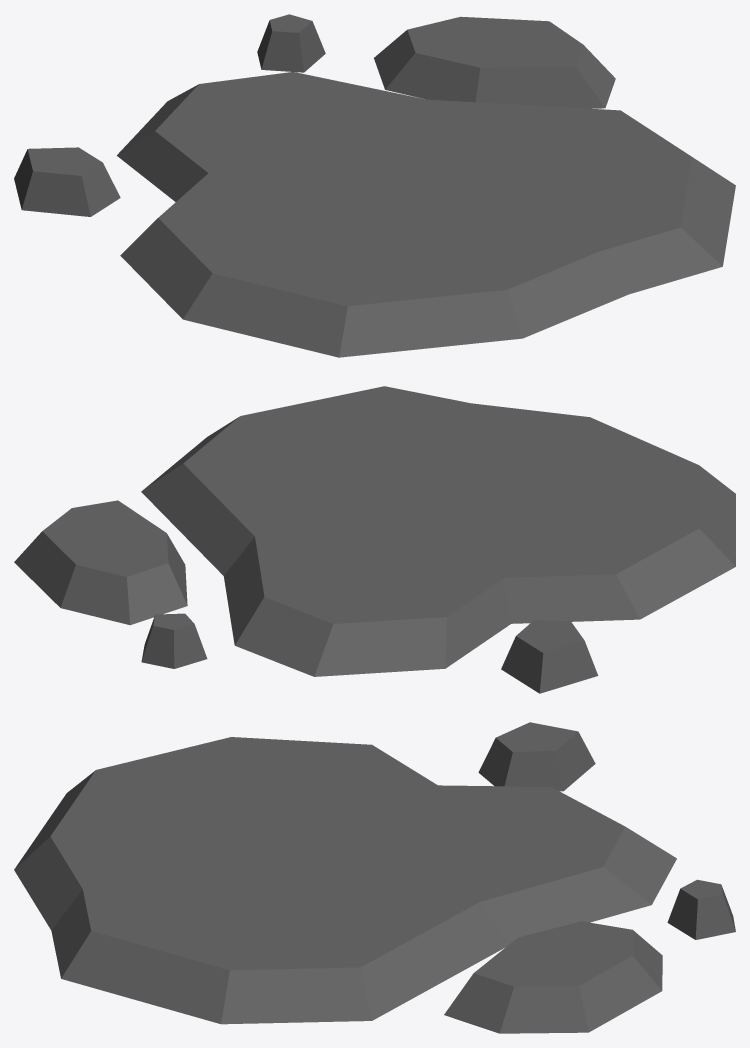
Rendered from SM_Prop_BloodPool_01.glb.
3 views of the same model, one above another, from view 1: azimuth 30°, elevation 25°; view 2: azimuth 150°, elevation 25°; view 3: azimuth 270°, elevation 25° (orthographic). The views are drawn at different scales.
Visible parts, largest first — view 1: SM_Prop_BloodPool_01; view 2: SM_Prop_BloodPool_01; view 3: SM_Prop_BloodPool_01.
Part boxes in pixels (x1=…): SM_Prop_BloodPool_01: x1=14, y1=14, x2=735, y2=357; SM_Prop_BloodPool_01: x1=14, y1=386, x2=735, y2=693; SM_Prop_BloodPool_01: x1=14, y1=722, x2=735, y2=1033.
Bounding box in the file's own units: 0.7537 × 0.0432 × 0.8128.
1 material, 1 textured.
